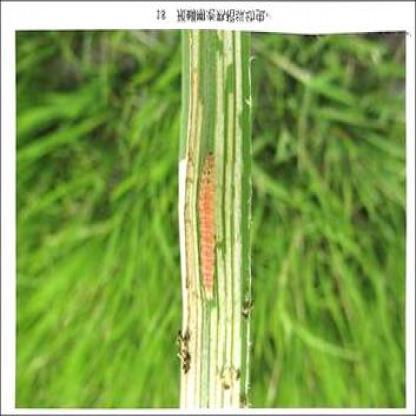leaf-folder: (190, 138, 221, 313)
